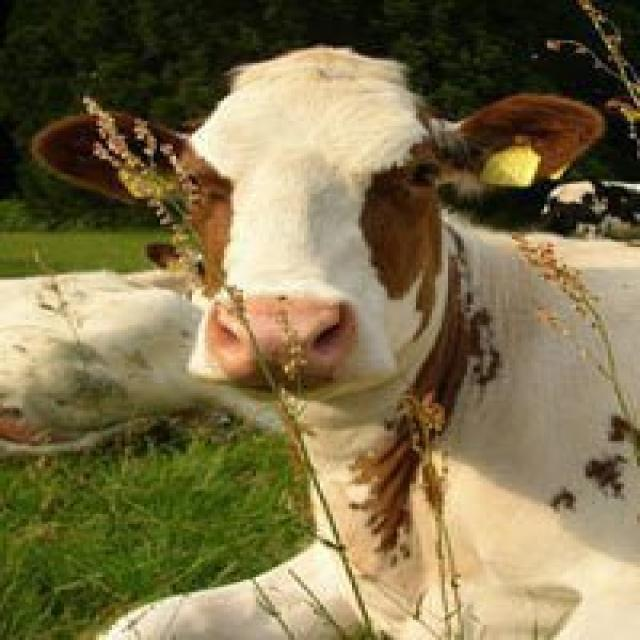cow: (126, 73, 504, 383)
